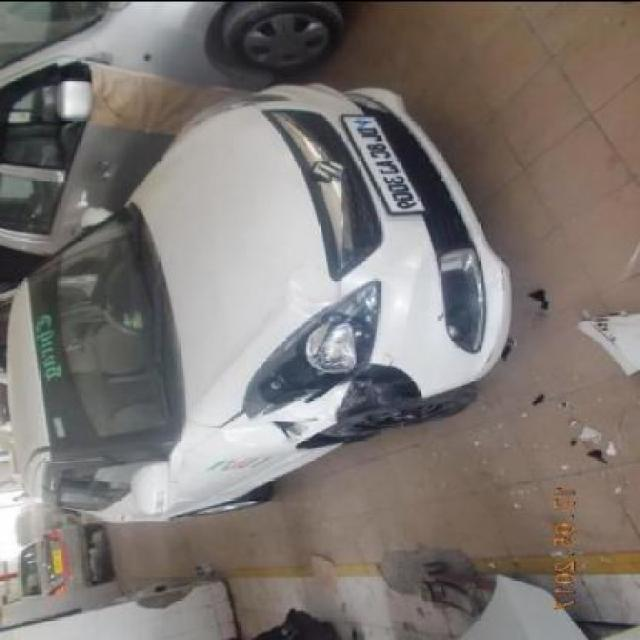damage: (332, 361, 428, 423), (269, 416, 320, 443)
